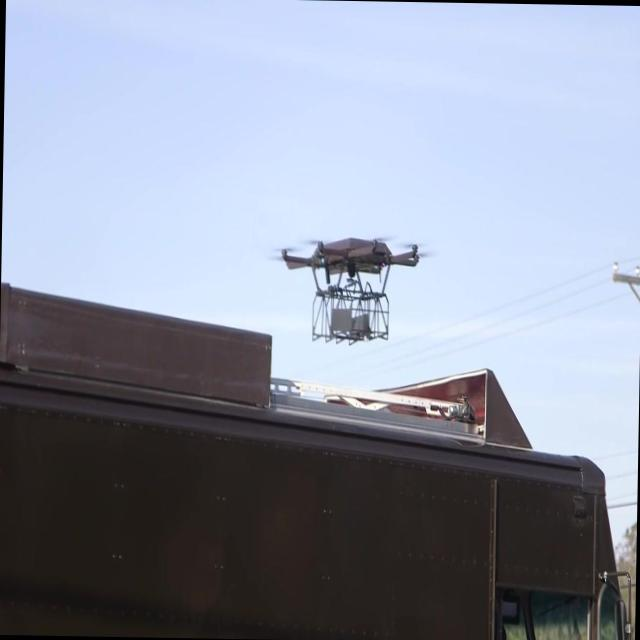drone: (276, 228, 426, 350)
